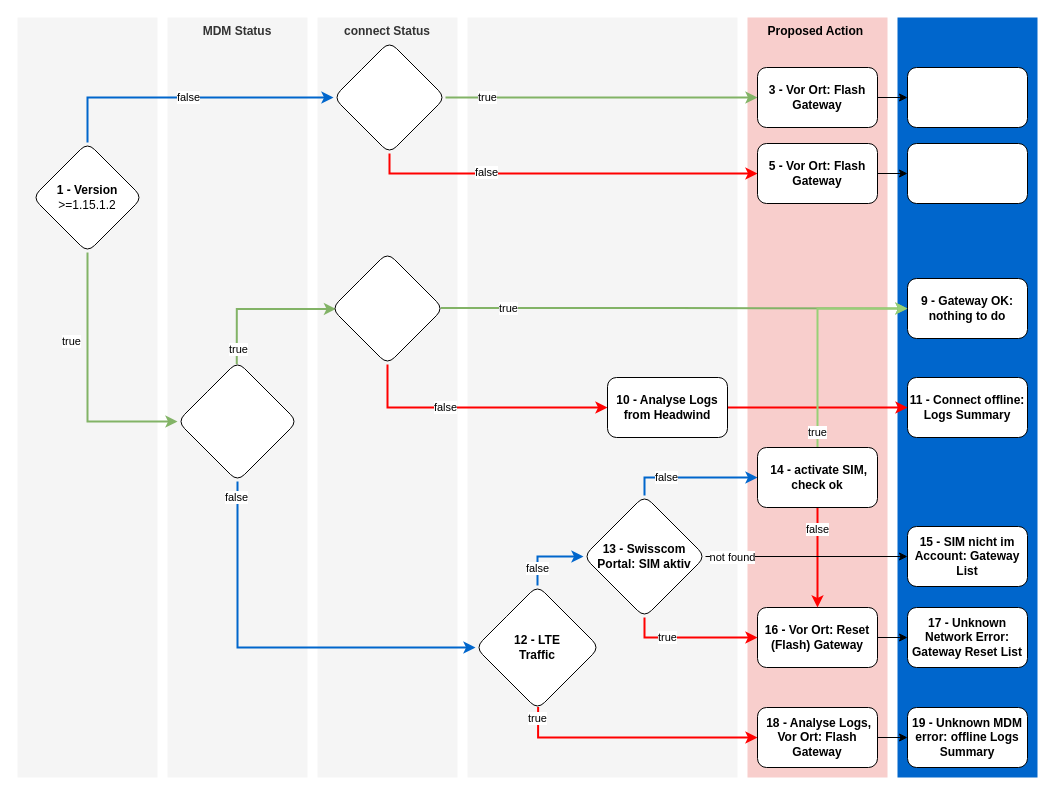
Image size: 1054x794. Some labels were removed from this diagram. Here are the shapes that lost their labels. From the top down, the box of each, then its label:
(332, 40, 446, 154): 2 - connect Status online
(906, 66, 1028, 128): 4 - Version low, online: Gateway Upgrade List
(906, 142, 1028, 204): 6 - Version low, offline: Gateway Upgrade List
(330, 252, 444, 364): 8 - connect Status online
(17, 17, 157, 777): connect Version
(467, 17, 737, 777): LTE Status
(897, 17, 1037, 777): Rapport
(176, 360, 298, 482): 7 - MDM Status
